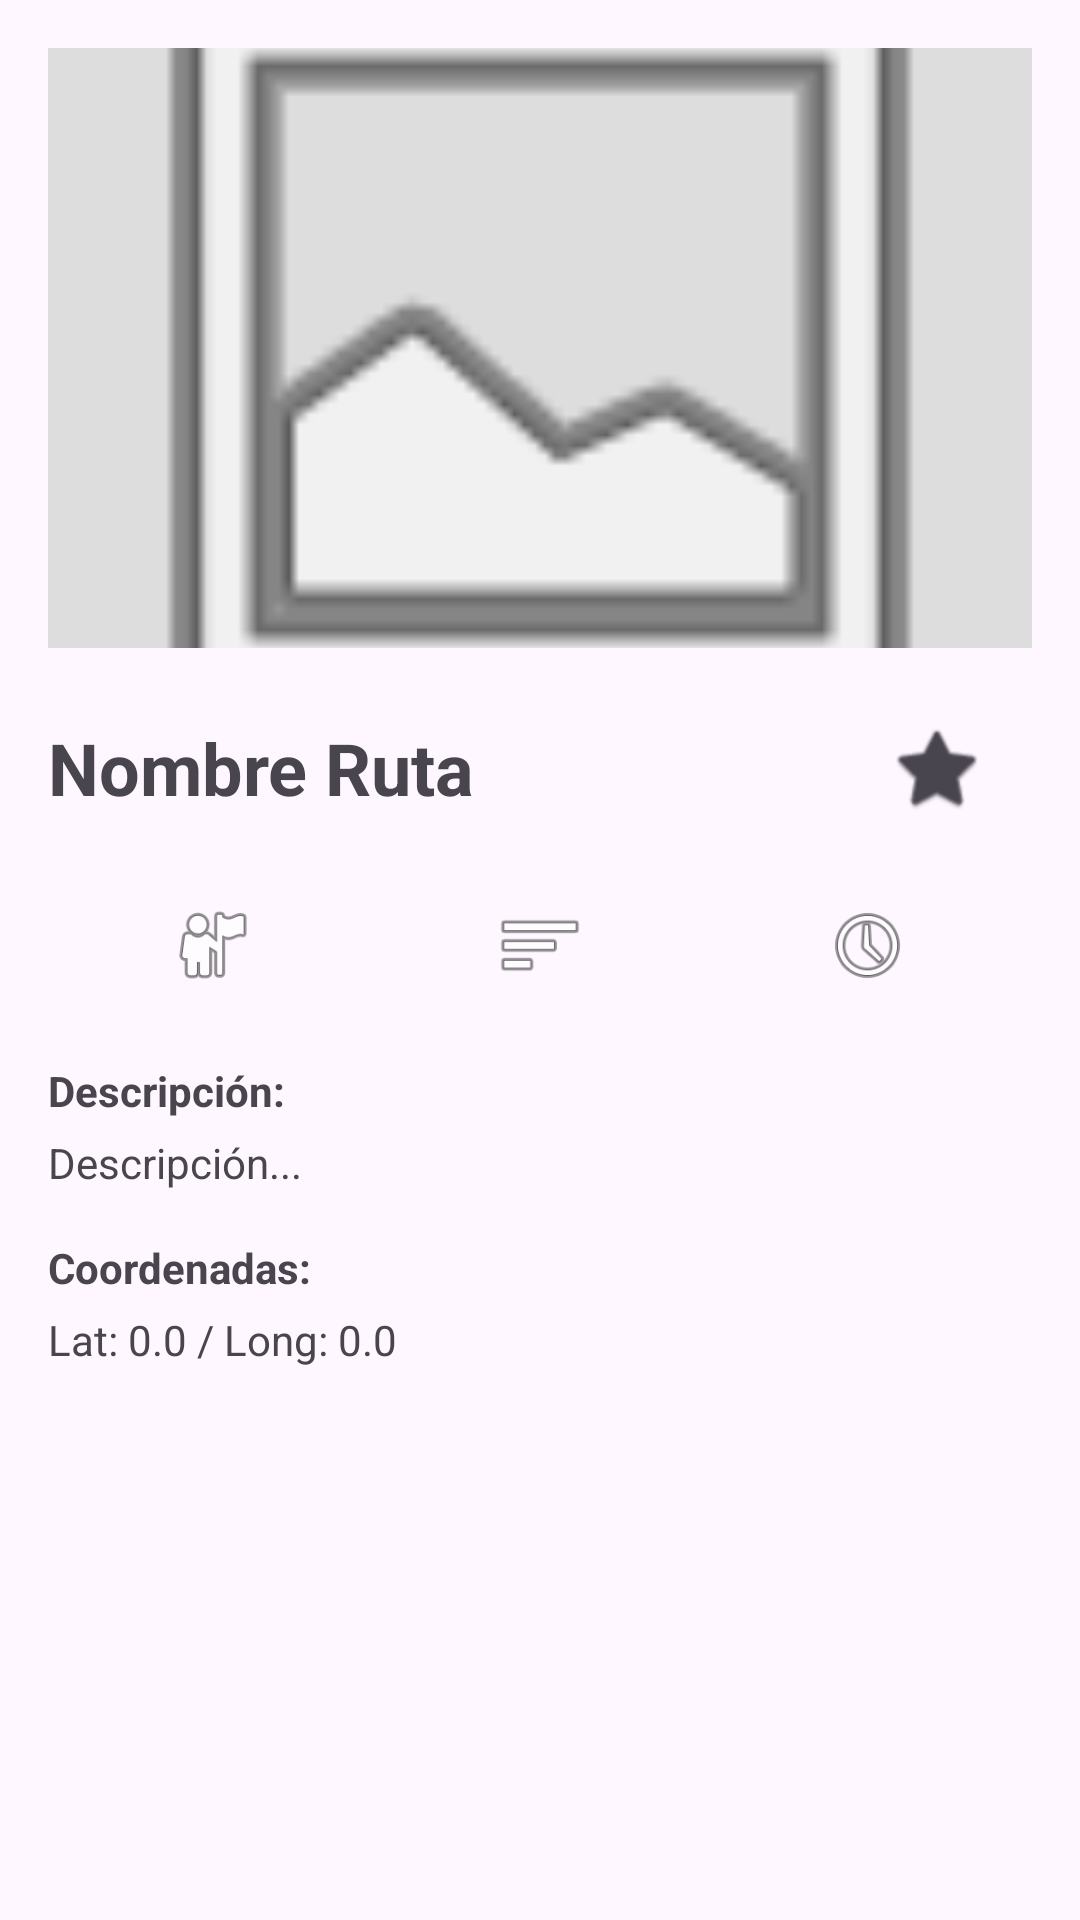

Icons on this 1080 × 1920 Android screen, each with its box as (left=x1, top=y1, right=x2, bottom=y2):
recent history: (left=835, top=913, right=900, bottom=978)
sort by size: (left=501, top=920, right=579, bottom=971)
star: (left=897, top=730, right=977, bottom=807)
